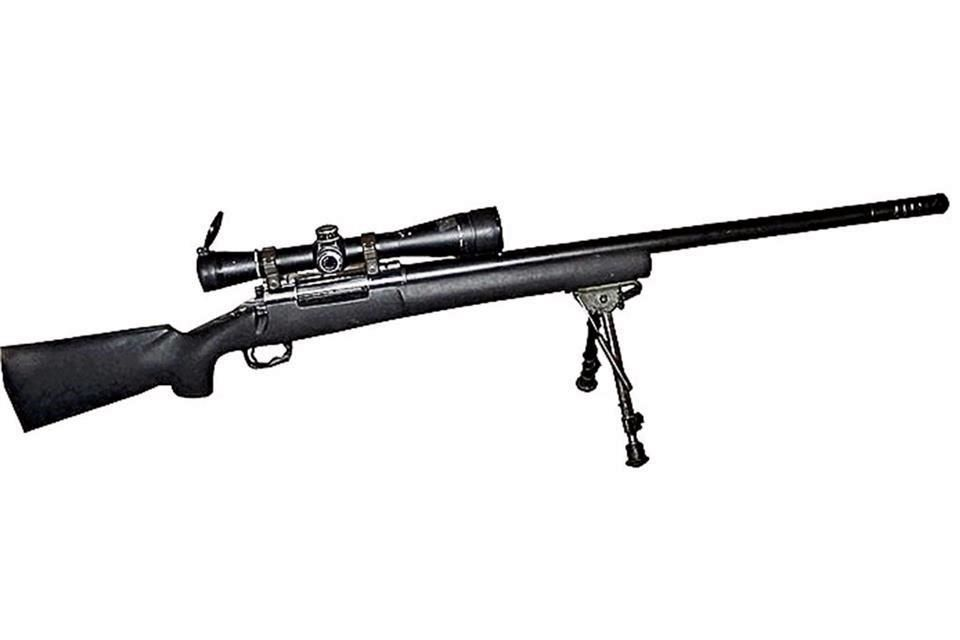Arma Real: (1, 181, 949, 468)
